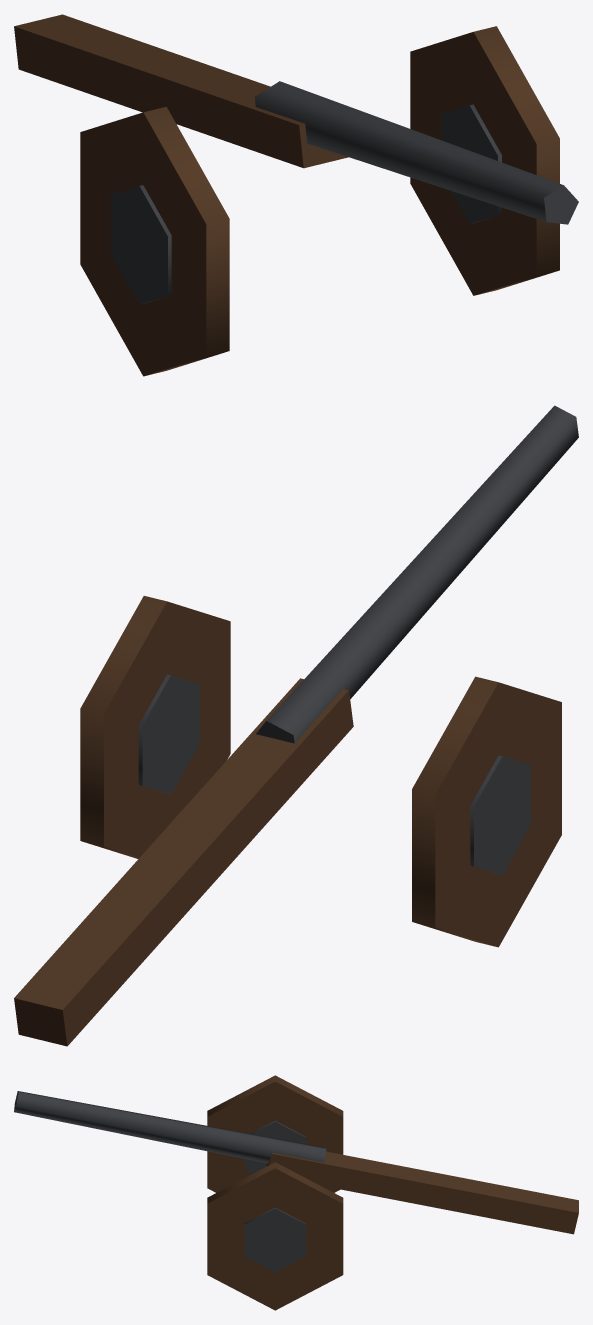
Rendered from unit_mil_gun_a05_lod1.glb.
3 views of the same model, one above another, from view 1: azimuth 30°, elevation 25°; view 2: azimuth 150°, elevation 25°; view 3: azimuth 270°, elevation 25° (orthographic). The views are drawn at different scales.
Parts seen in each view (by area): view 1: wheel_0, wheel_1, body, barrel; view 2: wheel_0, body, wheel_1, barrel; view 3: wheel_1, body, wheel_0, barrel.
Part boxes in pixels (box(x1,y1,x2,y2)): wheel_0: box(80, 106, 229, 376); wheel_1: box(410, 26, 559, 295); body: box(14, 14, 348, 168); barrel: box(254, 81, 578, 224); wheel_0: box(412, 676, 561, 947); body: box(14, 678, 353, 1046); wheel_1: box(80, 596, 230, 858); barrel: box(256, 405, 578, 743); wheel_1: box(207, 1162, 343, 1310); body: box(266, 1151, 578, 1234); wheel_0: box(207, 1075, 343, 1192); barrel: box(14, 1091, 326, 1163).
Size of the model in its own units: 1.86 by 1.58 by 4.68.
